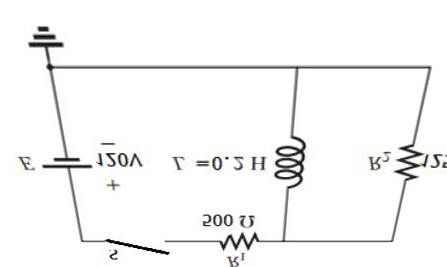inductor: (265, 128, 314, 193)
